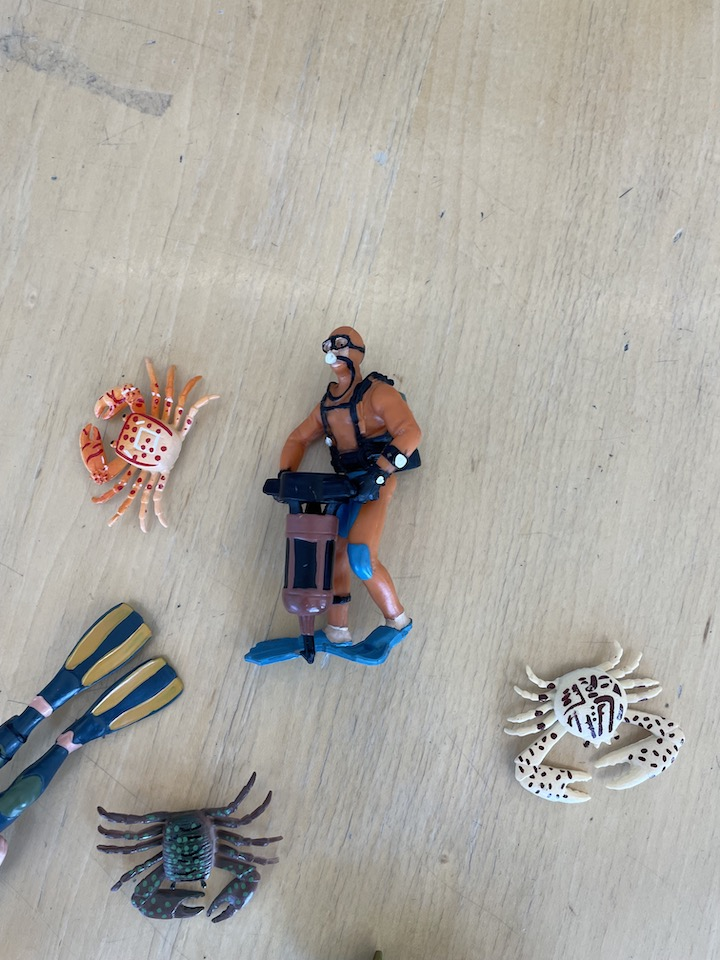crab: (503, 638, 689, 804), (92, 769, 284, 925), (78, 357, 222, 531)
diver: (241, 324, 428, 675), (1, 601, 185, 865)
